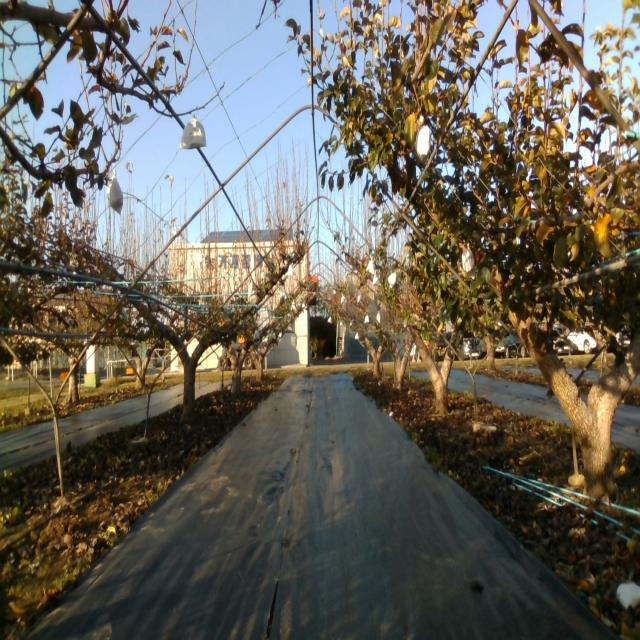pearbags: (178, 112, 207, 148), (107, 170, 123, 214), (414, 124, 432, 163), (462, 247, 474, 276)
